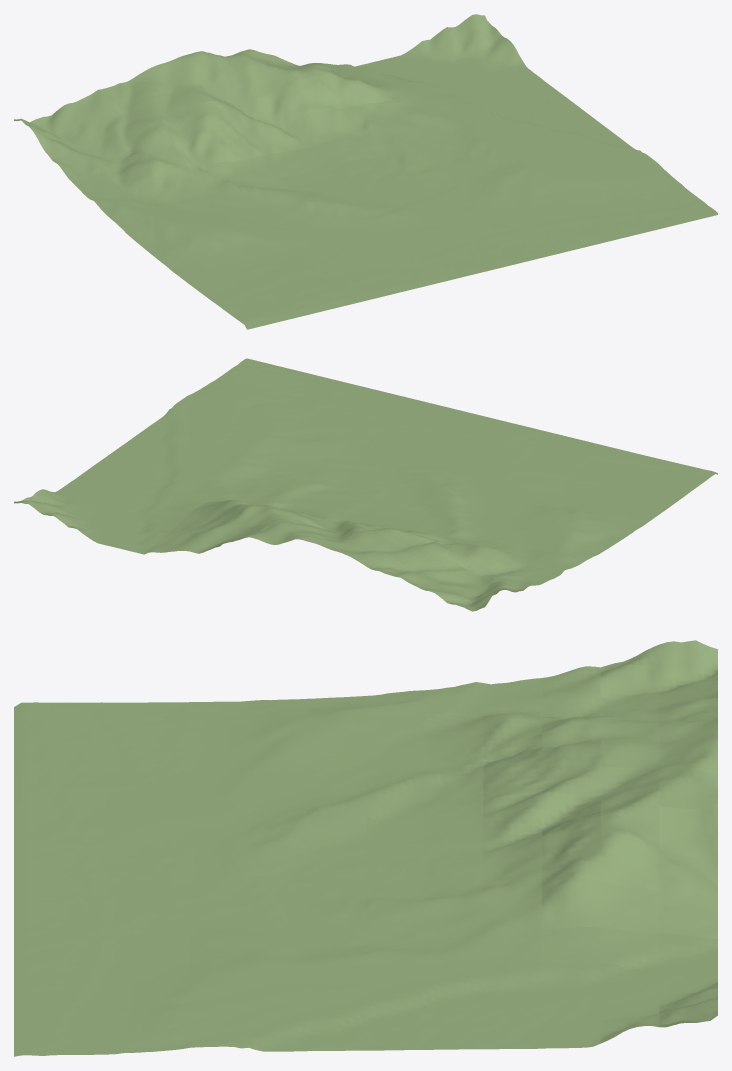
The model's file is terrain_lod3.glb.
3 views of the same model, one above another, from view 1: azimuth 30°, elevation 25°; view 2: azimuth 150°, elevation 25°; view 3: azimuth 270°, elevation 25° (orthographic). The views are drawn at different scales.
Parts seen in each view (by area): view 1: t_6_9, t_7_9, t_6_10, t_12_11, t_13_11, t_3_8, t_4_11, t_2_11, t_5_8, t_2_9, t_13_10, t_5_10 (+146 smaller); view 2: t_8_11, t_2_10, t_1_8, t_9_4, t_10_4, t_10_6, t_0_5, t_2_9, t_10_11, t_0_4, t_7_10, t_6_11 (+136 smaller); view 3: t_8_10, t_7_11, t_9_9, t_9_10, t_0_11, t_9_11, t_0_10, t_8_11, t_10_10, t_10_9, t_5_9, t_5_5 (+153 smaller).
Part boxes in pixels (bbox=[...]): t_6_9: bbox=[255, 84, 307, 128]; t_7_9: bbox=[288, 76, 340, 112]; t_6_10: bbox=[235, 62, 287, 99]; t_12_11: bbox=[418, 27, 470, 66]; t_13_11: bbox=[451, 14, 503, 53]; t_3_8: bbox=[173, 131, 225, 171]; t_4_11: bbox=[149, 56, 201, 93]; t_2_11: bbox=[81, 85, 133, 123]; t_5_8: bbox=[240, 122, 293, 156]; t_2_9: bbox=[120, 120, 172, 157]; t_13_10: bbox=[471, 37, 523, 72]; t_5_10: bbox=[202, 73, 254, 108]; t_8_11: bbox=[182, 525, 234, 553]; t_2_10: bbox=[403, 549, 455, 581]; t_1_8: bbox=[476, 547, 528, 574]; t_9_4: bbox=[285, 442, 336, 466]; t_10_4: bbox=[251, 430, 302, 457]; t_10_6: bbox=[212, 458, 264, 482]; t_0_5: bbox=[568, 525, 620, 552]; t_2_9: bbox=[423, 543, 475, 569]; t_10_11: bbox=[115, 532, 167, 554]; t_0_4: bbox=[587, 516, 640, 539]; t_7_10: bbox=[235, 505, 287, 527]; t_6_11: bbox=[249, 520, 301, 544]; t_8_10: bbox=[600, 833, 659, 890]; t_7_11: bbox=[659, 804, 717, 859]; t_9_9: bbox=[542, 876, 600, 929]; t_9_10: bbox=[600, 881, 659, 933]; t_0_11: bbox=[659, 640, 717, 692]; t_9_11: bbox=[659, 891, 717, 938]; t_0_10: bbox=[600, 645, 659, 699]; t_8_11: bbox=[659, 849, 717, 898]; t_10_10: bbox=[600, 928, 659, 969]; t_10_9: bbox=[542, 927, 600, 964]; t_5_9: bbox=[542, 767, 600, 820]; t_5_5: bbox=[307, 812, 365, 848].
Size of the model in its own units: 3584 by 461 by 3072.
